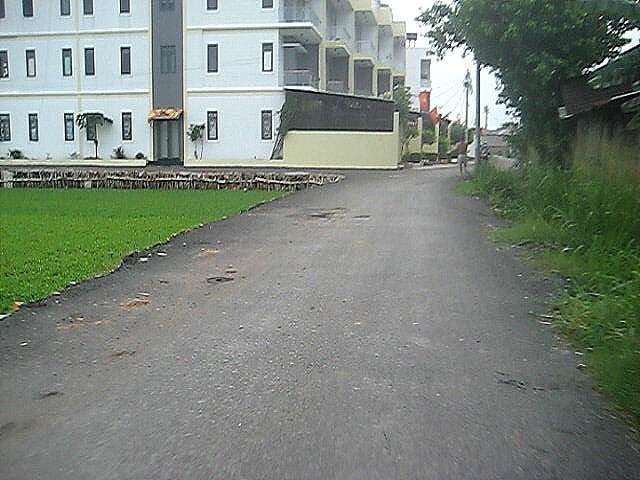hole: (298, 209, 346, 220), (35, 386, 63, 400), (206, 275, 233, 283)
